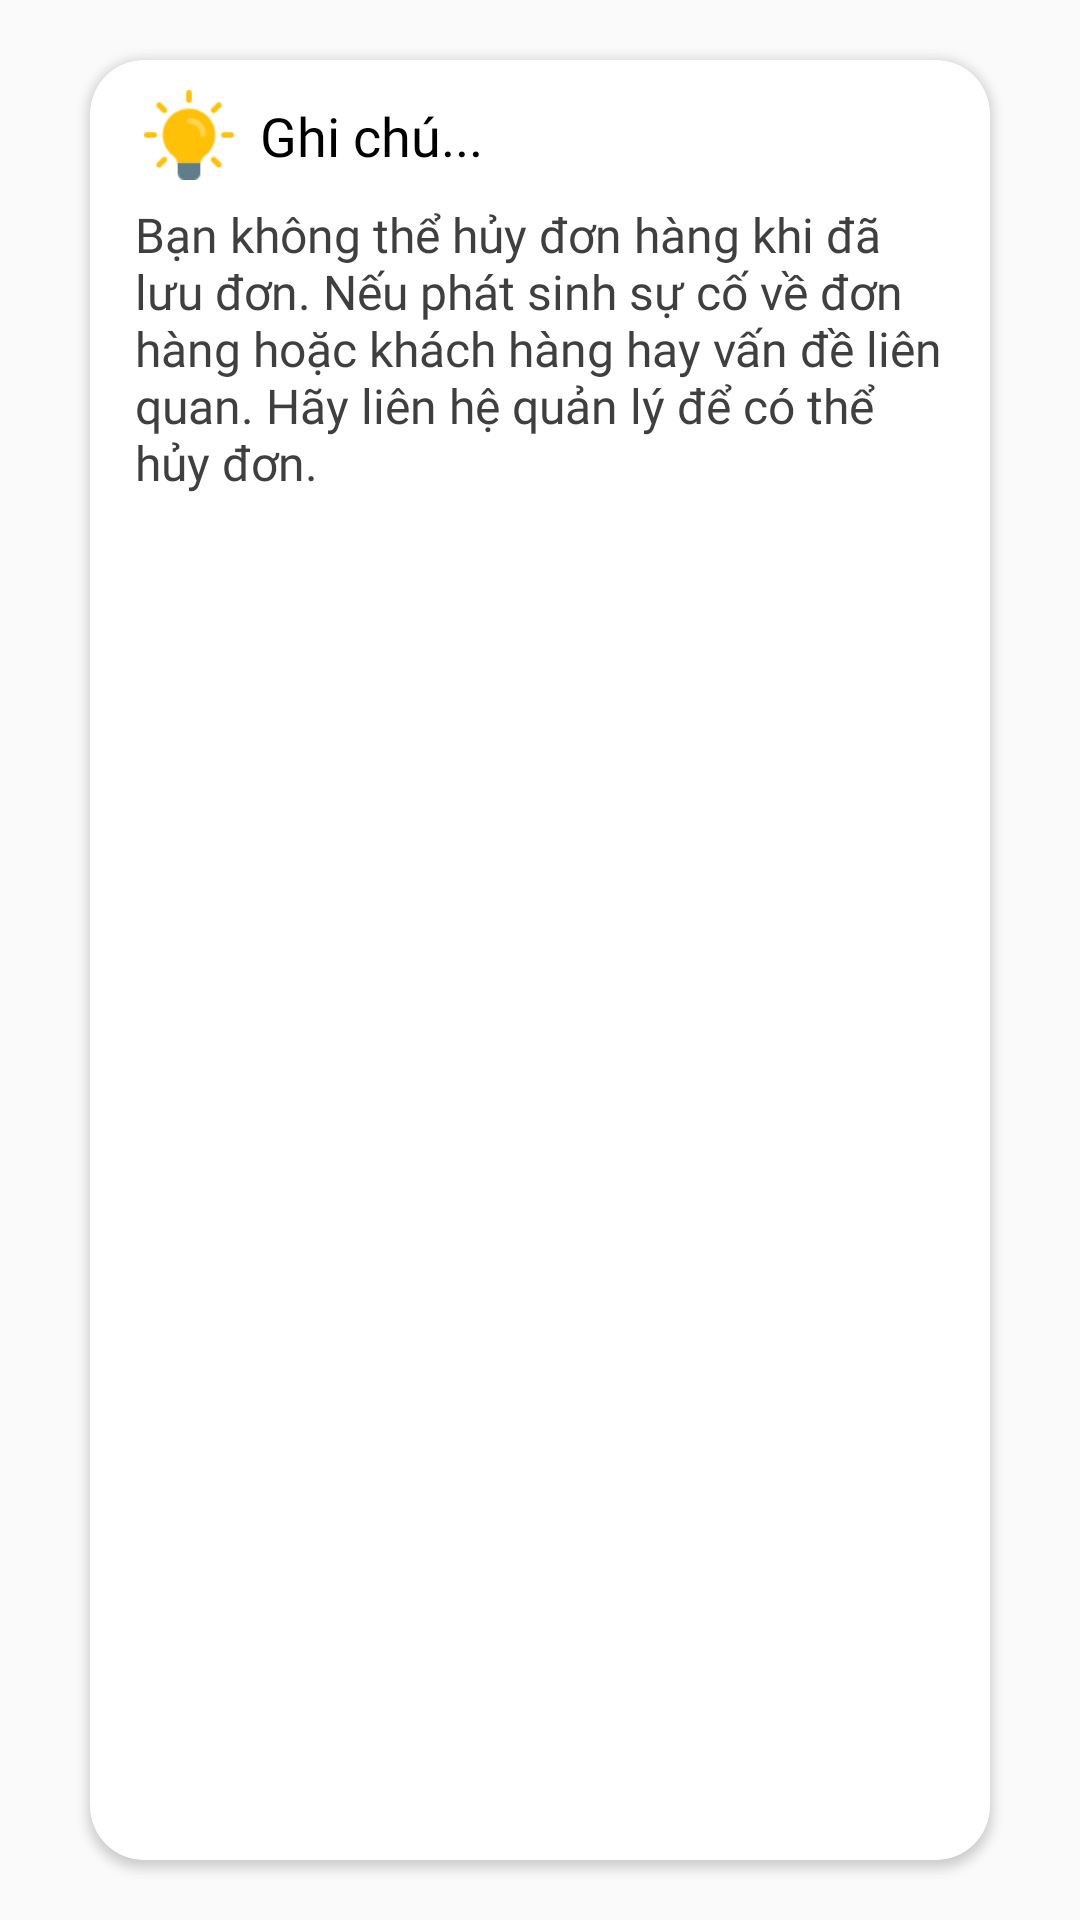

Icons on this 1080x1920 Android screen, each with the point to tap as (x=x, y=y):
idea: (x=189, y=135)
